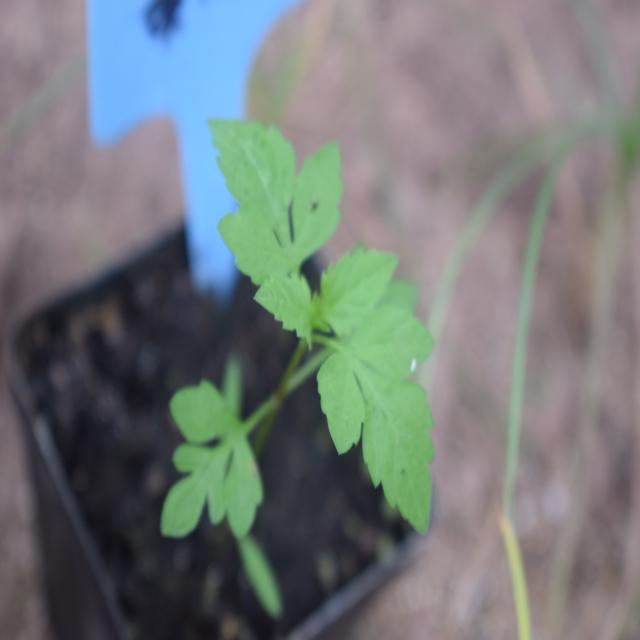Bidens pilosa: (136, 109, 442, 547)
